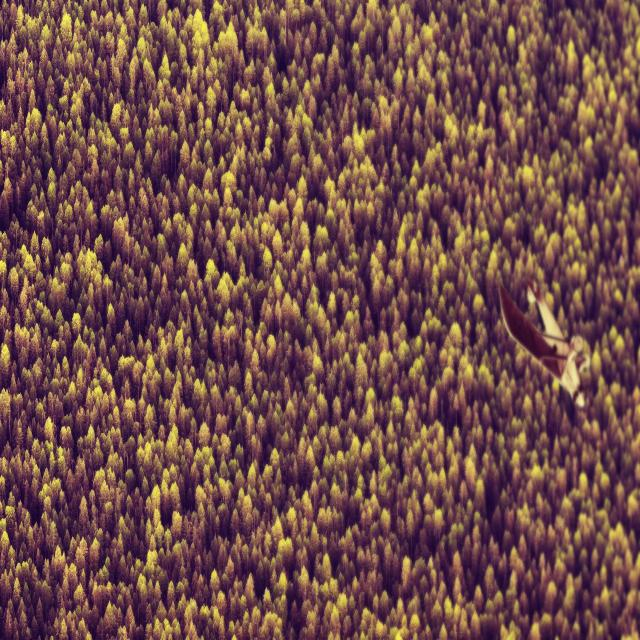airplane: (498, 281, 589, 408)
